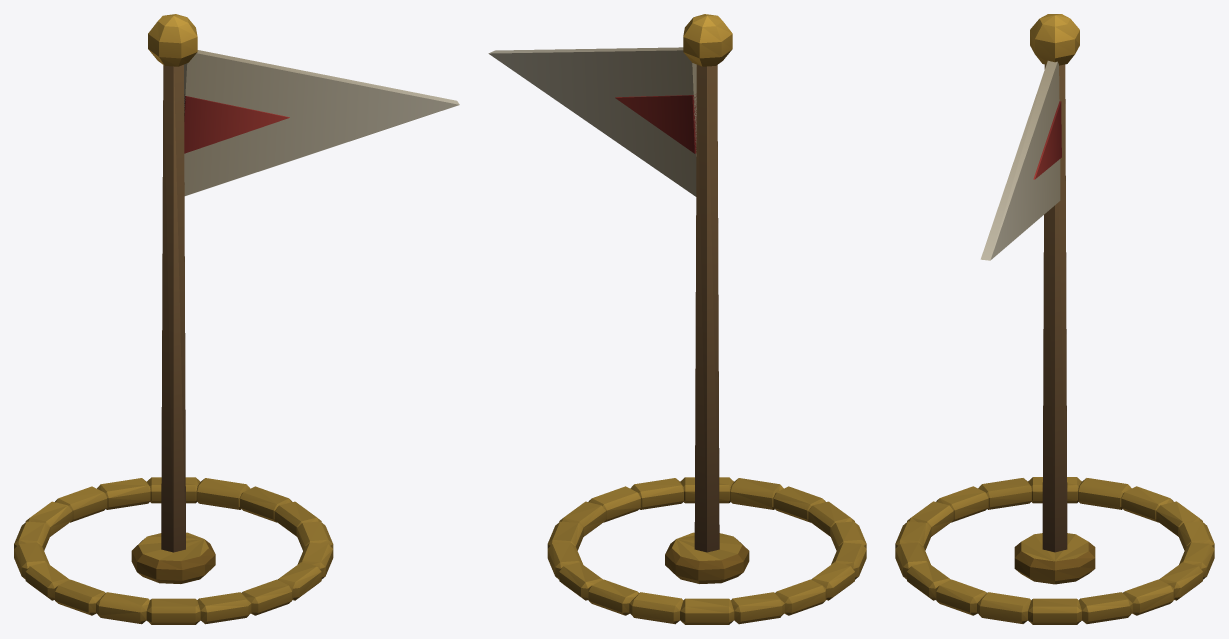
File: signal_pennant.glb
3 views of the same model, side by side, from view 1: azimuth 30°, elevation 25°; view 2: azimuth 150°, elevation 25°; view 3: azimuth 270°, elevation 25° (orthographic).
Parts seen in each view (by area): view 1: signal_pennant; view 2: signal_pennant; view 3: signal_pennant.
Part boxes in pixels (x1,y1,x2,y2): signal_pennant: [14, 14, 459, 624]; signal_pennant: [488, 14, 866, 624]; signal_pennant: [895, 14, 1214, 624].
Size of the model in its own units: 0.5299 by 0.722 by 0.3773.
